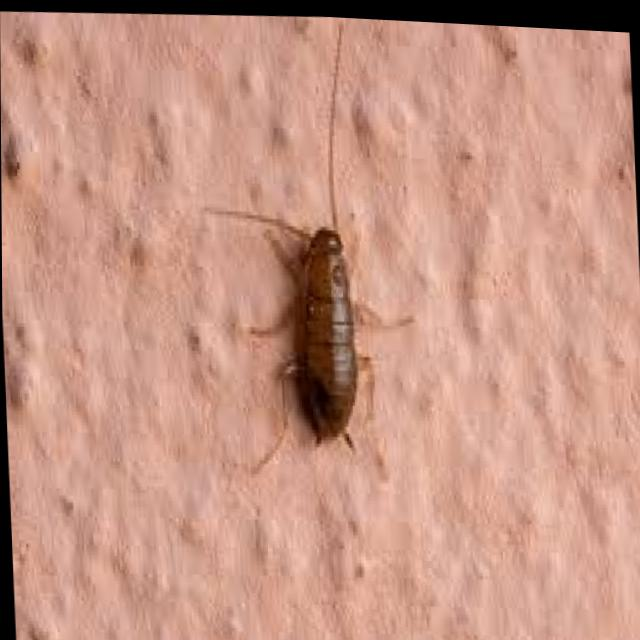Cockroach: (189, 8, 425, 533)
